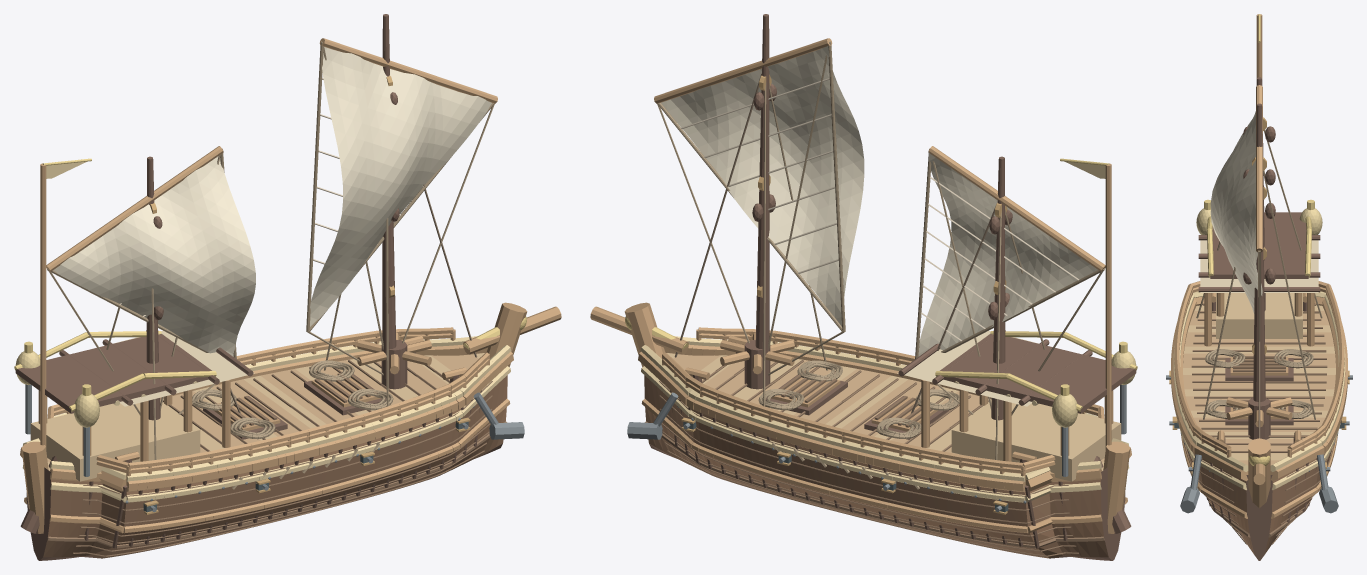
The model's file is zanzibar_jahazi-v5.glb.
3 views of the same model, side by side, from view 1: azimuth 30°, elevation 25°; view 2: azimuth 150°, elevation 25°; view 3: azimuth 270°, elevation 25° (orthographic). The views are drawn at different scales.
Parts seen in each view (by area): view 1: zanzibar_jahazi_sails_sail, zanzibar_jahazi_hull_wood, zanzibar_jahazi_hull_hull, zanzibar_jahazi_hull_seam, zanzibar_jahazi_hull_pale, zanzibar_jahazi_railings_wood, zanzibar_jahazi_deck_darkwood, zanzibar_jahazi_deck_decklight, zanzibar_jahazi_hull_deck, zanzibar_jahazi_hull_hull2, zanzibar_jahazi_rigging_rope, zanzibar_jahazi_masts_darkwood (+16 smaller); view 2: zanzibar_jahazi_sails_sail, zanzibar_jahazi_hull_wood, zanzibar_jahazi_hull_hull, zanzibar_jahazi_hull_seam, zanzibar_jahazi_hull_pale, zanzibar_jahazi_railings_wood, zanzibar_jahazi_deck_darkwood, zanzibar_jahazi_deck_decklight, zanzibar_jahazi_rigging_rope, zanzibar_jahazi_masts_darkwood, zanzibar_jahazi_hull_deck, zanzibar_jahazi_hull_hull2 (+18 smaller); view 3: zanzibar_jahazi_hull_deck, zanzibar_jahazi_sails_sail, zanzibar_jahazi_hull_wood, zanzibar_jahazi_hull_seam, zanzibar_jahazi_hull_decklight, zanzibar_jahazi_railings_wood, zanzibar_jahazi_deck_darkwood, zanzibar_jahazi_deck_decklight, zanzibar_jahazi_hull_pale, zanzibar_jahazi_masts_darkwood, zanzibar_jahazi_hull_hull, zanzibar_jahazi_fittings_darkwood (+19 smaller).
Boxes of the visible parts, left/top/right/bottom form: zanzibar_jahazi_sails_sail: left=53, top=47, right=491, bottom=356; zanzibar_jahazi_hull_wood: left=20, top=302, right=561, bottom=533; zanzibar_jahazi_hull_hull: left=43, top=375, right=507, bottom=558; zanzibar_jahazi_hull_seam: left=47, top=360, right=506, bottom=556; zanzibar_jahazi_hull_pale: left=22, top=336, right=511, bottom=502; zanzibar_jahazi_railings_wood: left=47, top=327, right=489, bottom=485; zanzibar_jahazi_deck_darkwood: left=15, top=334, right=211, bottom=413; zanzibar_jahazi_deck_decklight: left=30, top=401, right=200, bottom=481; zanzibar_jahazi_hull_deck: left=47, top=354, right=478, bottom=473; zanzibar_jahazi_hull_hull2: left=47, top=352, right=506, bottom=544; zanzibar_jahazi_rigging_rope: left=47, top=41, right=494, bottom=415; zanzibar_jahazi_masts_darkwood: left=146, top=14, right=399, bottom=420; zanzibar_jahazi_sails_sail: left=661, top=45, right=1097, bottom=356; zanzibar_jahazi_hull_wood: left=590, top=302, right=1131, bottom=533; zanzibar_jahazi_hull_hull: left=644, top=375, right=1108, bottom=558; zanzibar_jahazi_hull_seam: left=645, top=360, right=1104, bottom=556; zanzibar_jahazi_hull_pale: left=640, top=336, right=1129, bottom=502; zanzibar_jahazi_railings_wood: left=662, top=327, right=1104, bottom=485; zanzibar_jahazi_deck_darkwood: left=940, top=334, right=1136, bottom=413; zanzibar_jahazi_deck_decklight: left=951, top=401, right=1121, bottom=481; zanzibar_jahazi_rigging_rope: left=657, top=41, right=1104, bottom=415; zanzibar_jahazi_masts_darkwood: left=752, top=14, right=1012, bottom=420; zanzibar_jahazi_hull_deck: left=673, top=354, right=1104, bottom=473; zanzibar_jahazi_hull_hull2: left=645, top=352, right=1104, bottom=544; zanzibar_jahazi_hull_deck: left=1183, top=311, right=1335, bottom=465; zanzibar_jahazi_sails_sail: left=1210, top=111, right=1262, bottom=313; zanzibar_jahazi_hull_wood: left=1171, top=296, right=1347, bottom=518; zanzibar_jahazi_hull_seam: left=1183, top=303, right=1335, bottom=544; zanzibar_jahazi_hull_decklight: left=1183, top=305, right=1335, bottom=460; zanzibar_jahazi_railings_wood: left=1174, top=281, right=1344, bottom=457; zanzibar_jahazi_deck_darkwood: left=1210, top=212, right=1308, bottom=278; zanzibar_jahazi_deck_decklight: left=1216, top=293, right=1302, bottom=338; zanzibar_jahazi_hull_pale: left=1173, top=291, right=1345, bottom=490; zanzibar_jahazi_masts_darkwood: left=1243, top=77, right=1275, bottom=401; zanzibar_jahazi_hull_hull: left=1187, top=450, right=1331, bottom=554; zanzibar_jahazi_fittings_darkwood: left=1212, top=302, right=1306, bottom=443.
Bounding box in the file's own units: 58.04 × 48.47 × 19.78.
